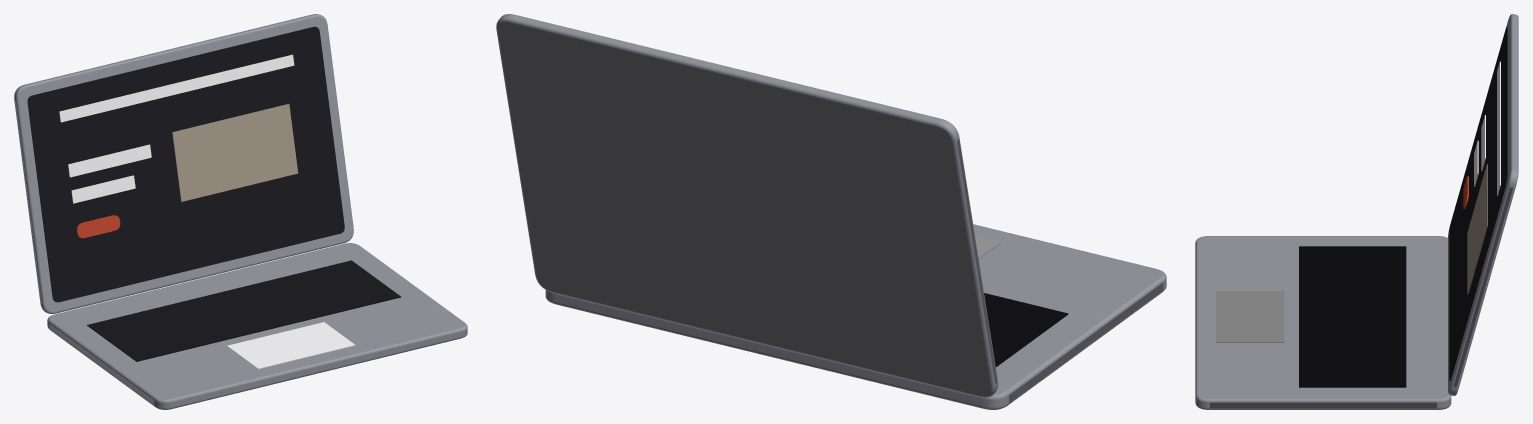
File: laptop.glb
3 renders of one model, left to right at view 1: azimuth 30°, elevation 25°; view 2: azimuth 150°, elevation 25°; view 3: azimuth 270°, elevation 25°, orthographic. The views are drawn at different scales.
Parts seen in each view (by area): view 1: screen, base, keys, lid, ui-block, pad, ui-bar, ui-text, ui-text-2, ui-button; view 2: lid, base, keys; view 3: base, keys, screen, lid, pad, ui-block, ui-bar.
Boxes of the visible parts, x1,y1,x2,y2 form: screen: [27, 26, 344, 302]; base: [47, 243, 467, 409]; keys: [87, 260, 400, 361]; lid: [14, 14, 353, 313]; ui-block: [172, 104, 298, 201]; pad: [227, 322, 355, 369]; ui-bar: [59, 54, 294, 122]; ui-text: [68, 144, 151, 177]; ui-text-2: [71, 175, 135, 203]; ui-button: [76, 215, 120, 238]; lid: [496, 14, 998, 397]; base: [545, 224, 1166, 409]; keys: [984, 293, 1068, 366]; base: [1195, 236, 1451, 409]; keys: [1299, 246, 1406, 387]; screen: [1449, 27, 1507, 380]; lid: [1448, 14, 1518, 395]; pad: [1216, 291, 1284, 342]; ui-block: [1467, 164, 1487, 294]; ui-bar: [1497, 61, 1500, 195].
Size of the model in its own units: 1.6 by 1.07 by 1.33.
